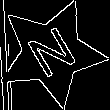N_SE: (21, 21, 82, 85)
